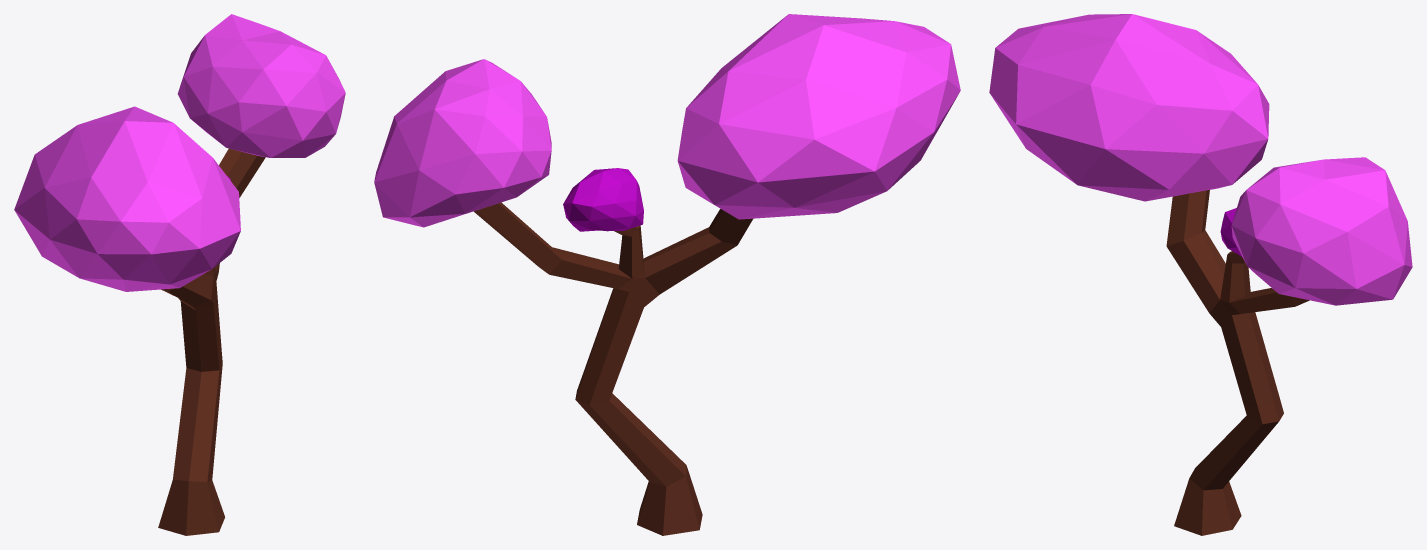
The model's file is Low_poly_cherry_tree__2.glb.
3 views of the same model, side by side, from view 1: azimuth 30°, elevation 25°; view 2: azimuth 150°, elevation 25°; view 3: azimuth 270°, elevation 25° (orthographic). The views are drawn at different scales.
Parts seen in each view (by area): view 1: Low poly cherry tree #2; view 2: Low poly cherry tree #2; view 3: Low poly cherry tree #2.
Part boxes in pixels (box(x1,y1,x2,y2)): Low poly cherry tree #2: box(14, 14, 345, 535); Low poly cherry tree #2: box(374, 14, 960, 535); Low poly cherry tree #2: box(989, 14, 1412, 535).
Size of the model in its own units: 4.17 by 4.64 by 3.91.
